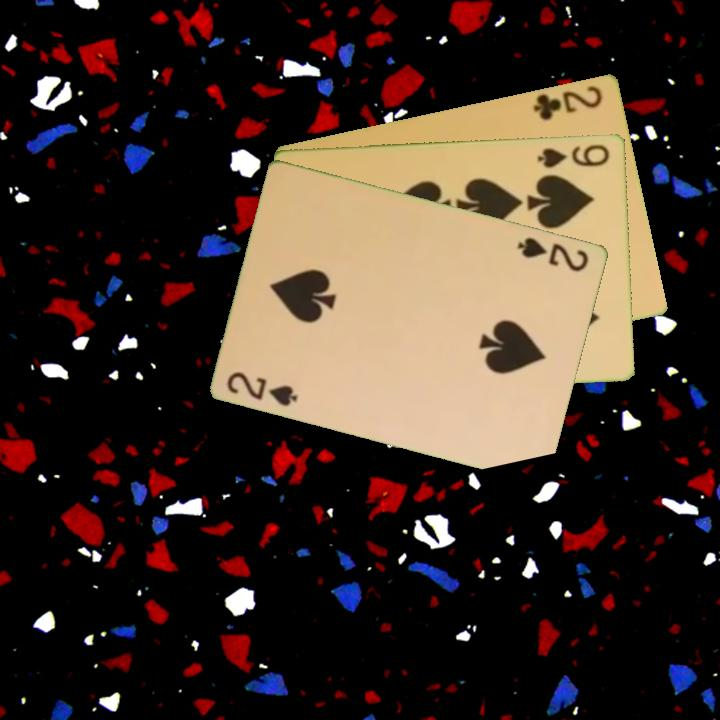2c: (530, 81, 606, 123)
2s: (224, 367, 301, 410), (514, 233, 592, 275)
9s: (534, 141, 612, 170)
